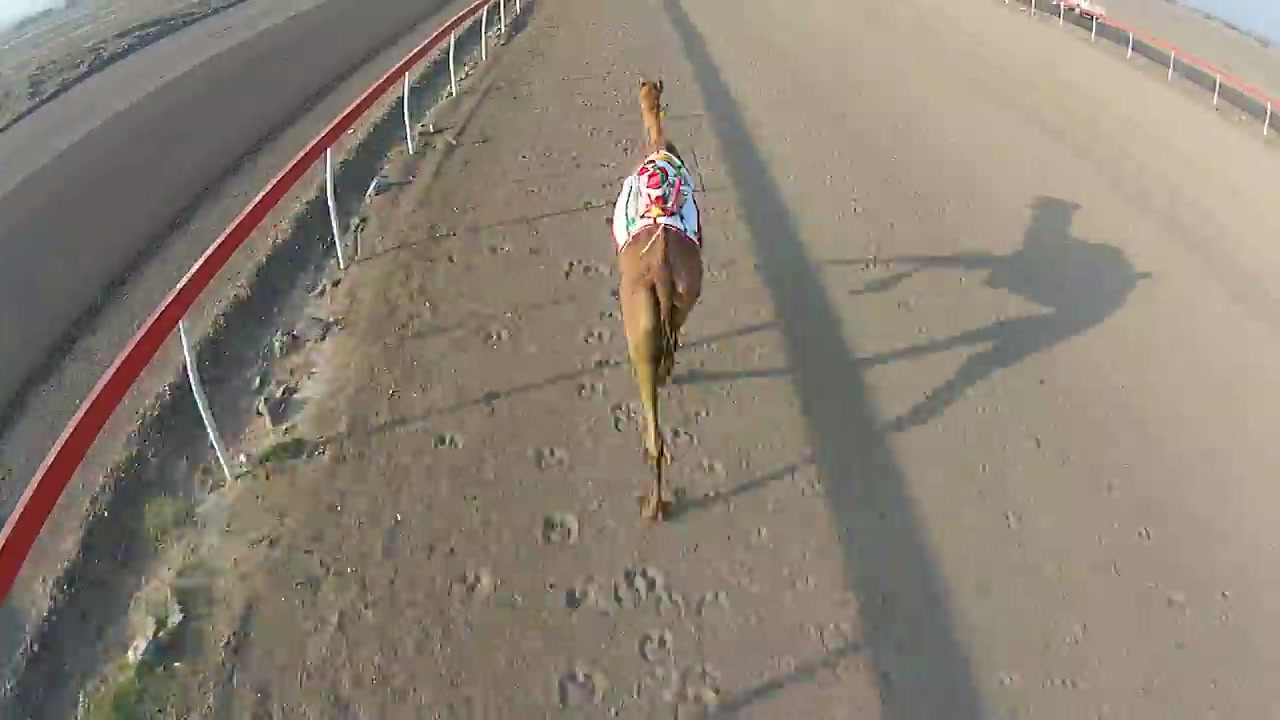animal_foot_print: (529, 189, 769, 719)
